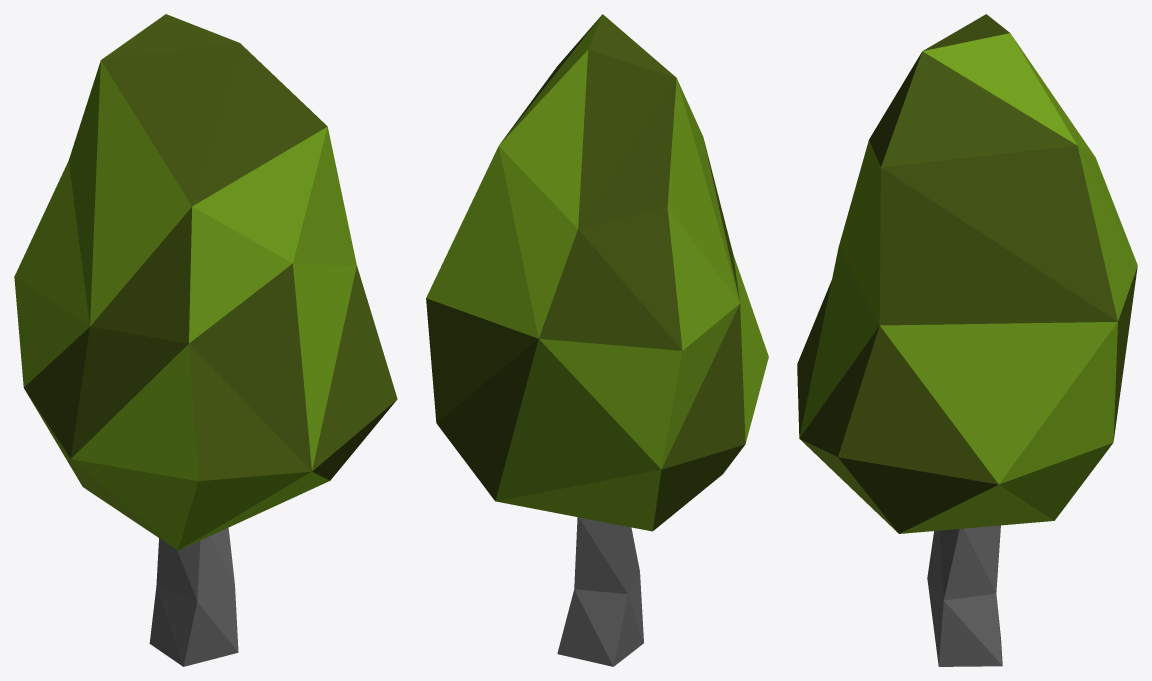
File: Tree1_M1_3_small.fbx
3 renders of one model, left to right at view 1: azimuth 30°, elevation 25°; view 2: azimuth 150°, elevation 25°; view 3: azimuth 270°, elevation 25°, orthographic.
Parts seen in each view (by area): view 1: Tree1_M1_3_small; view 2: Tree1_M1_3_small; view 3: Tree1_M1_3_small.
Part boxes in pixels (x1,y1,x2,y2): Tree1_M1_3_small: [14, 14, 397, 666]; Tree1_M1_3_small: [426, 14, 768, 666]; Tree1_M1_3_small: [797, 14, 1137, 666].
Bounding box in the file's own units: 78.76 × 165 × 82.6.
